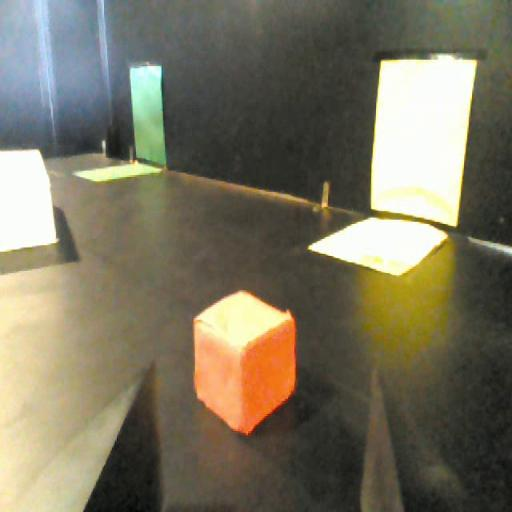cube: (178, 280, 300, 436)
